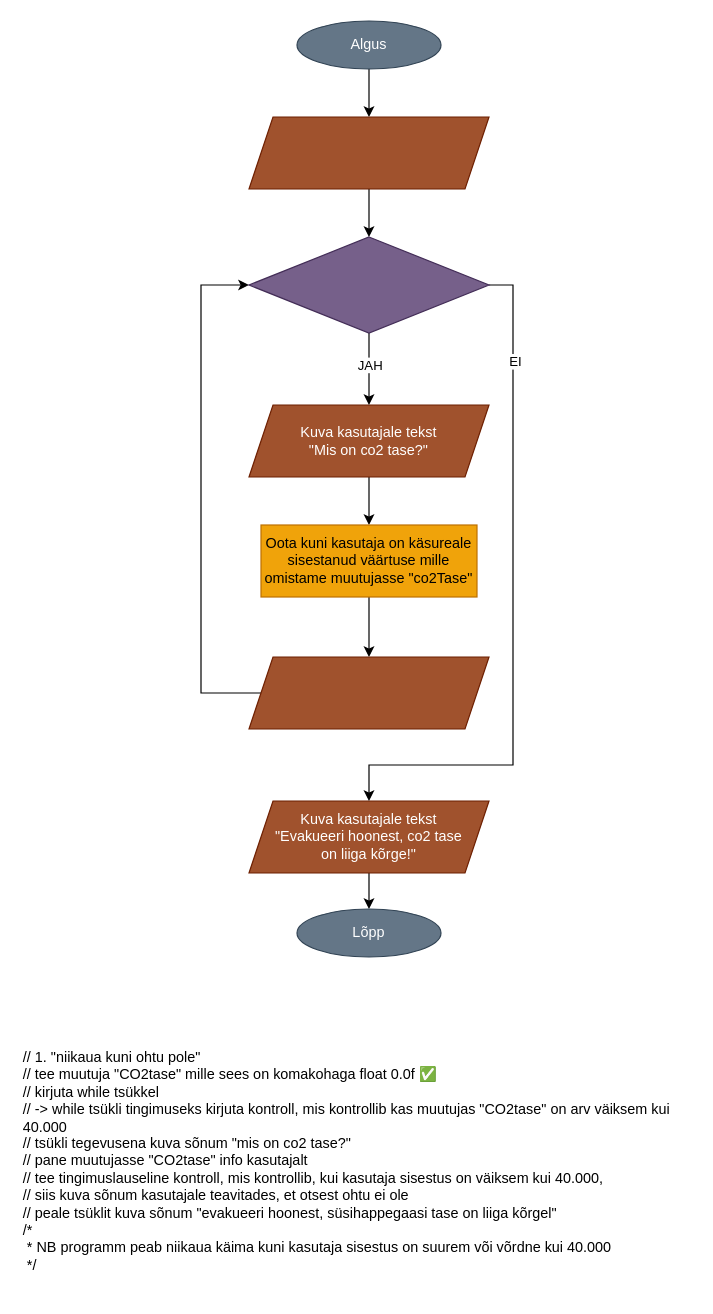
The diagram is 713 pixels wide and 1314 high, and some of its shapes have lost their labels. Here are the shapes that lost their labels. From the top down, the centre of each, then its label:
[368,152]: Tekita muutuja "co2Tase" mille omistama algse väärtuse 0.0f
[368,284]: Kas väärtus muutujas "co2Tase" on väiksem kui 40f?
[368,692]: Kuva kasutajale tekst "Otsest ohtu ei ole"
